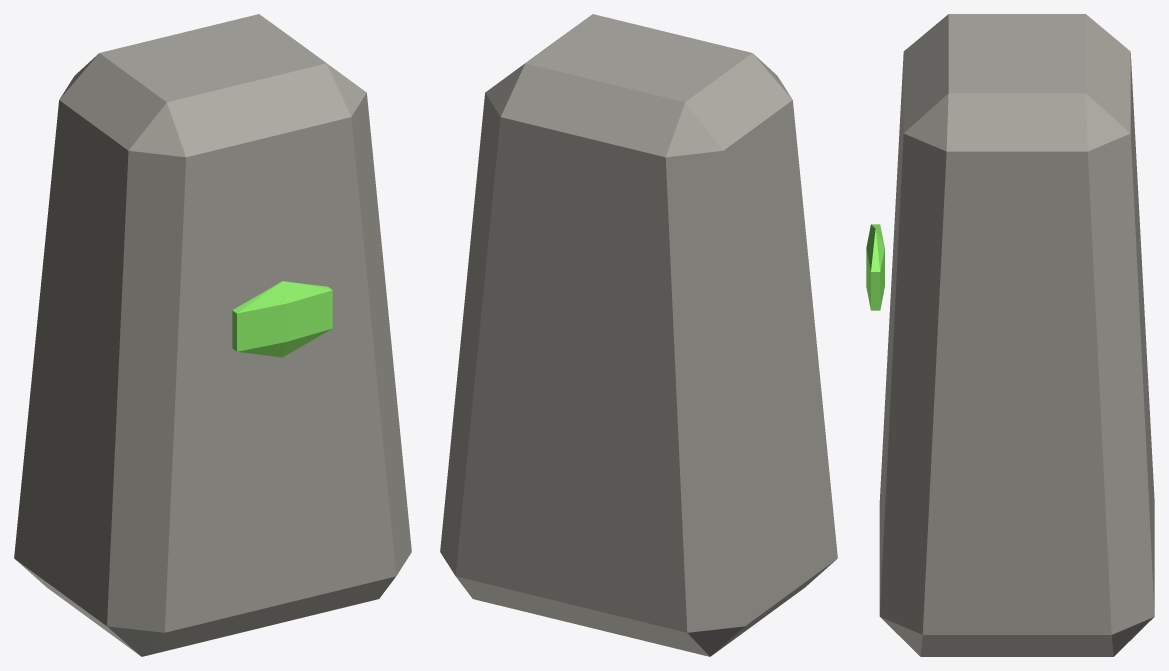
File: rune_stone.fbx
3 views of the same model, side by side, from view 1: azimuth 30°, elevation 25°; view 2: azimuth 150°, elevation 25°; view 3: azimuth 270°, elevation 25° (orthographic).
Visible parts, largest first — view 1: Stone; view 2: Stone; view 3: Stone.
Part boxes in pixels (box(x1,y1,x2,y2)): Stone: box(14, 14, 411, 656); Stone: box(440, 14, 837, 656); Stone: box(866, 14, 1154, 656).
Size of the model in its own units: 0.167 by 0.28 by 0.1344.
1 material, 1 textured.
